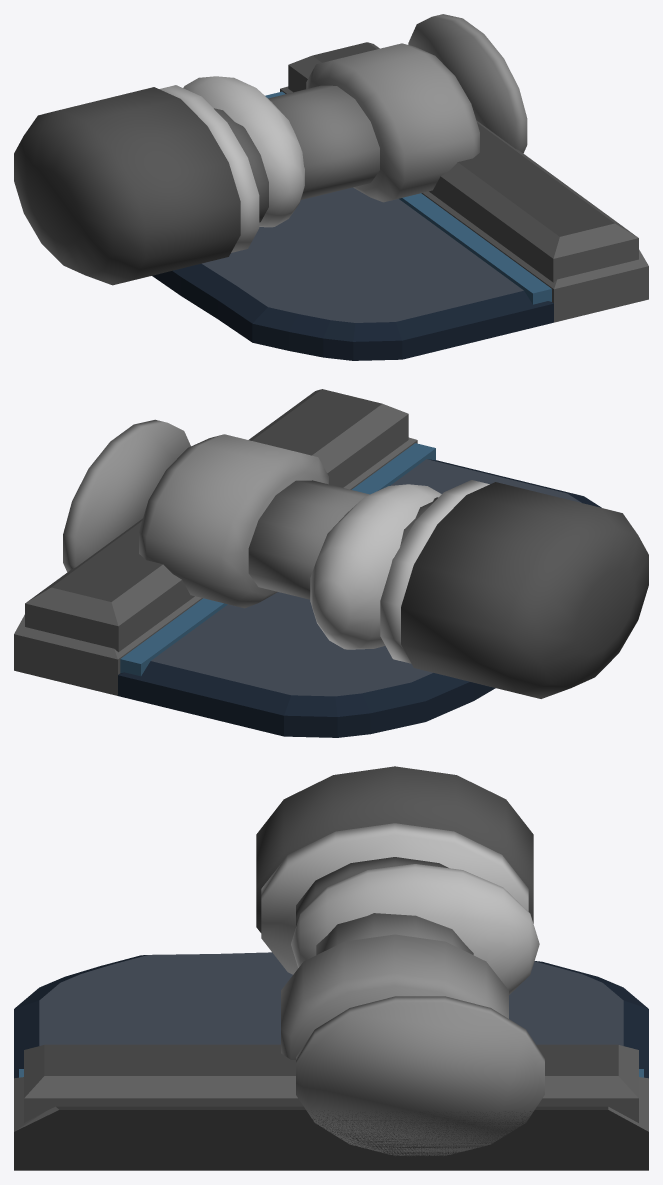
Rendered from newshv-167.glb.
The picture shows the model from 3 angles, top to bottom: view 1: azimuth 30°, elevation 25°; view 2: azimuth 150°, elevation 25°; view 3: azimuth 270°, elevation 25°; orthographic projection. The views are drawn at different scales.
Visible parts, largest first — view 1: newshv-167; view 2: newshv-167; view 3: newshv-167.
Boxes of the visible parts, x1,y1,x2,y2 form: newshv-167: [14, 14, 648, 360]; newshv-167: [14, 389, 648, 737]; newshv-167: [14, 766, 648, 1170].
Bounding box in the file's own units: 1.89 × 0.6473 × 2.08.
